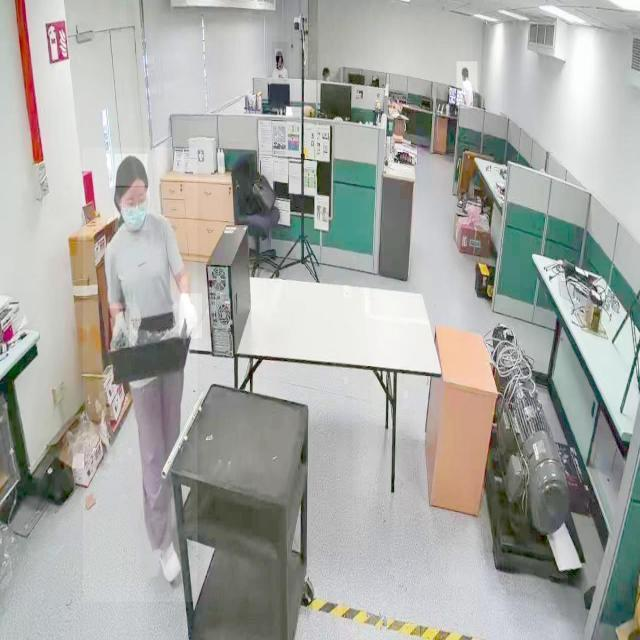gloves: (180, 293, 202, 339), (108, 308, 130, 349)
